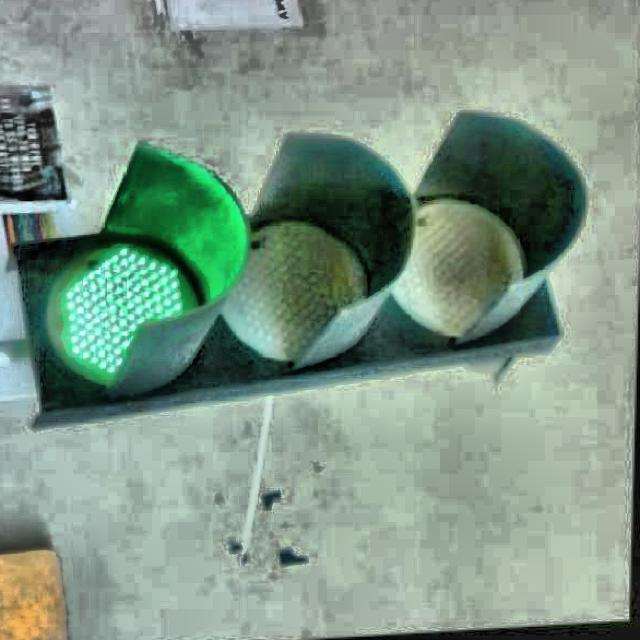green: (10, 158, 566, 404)
